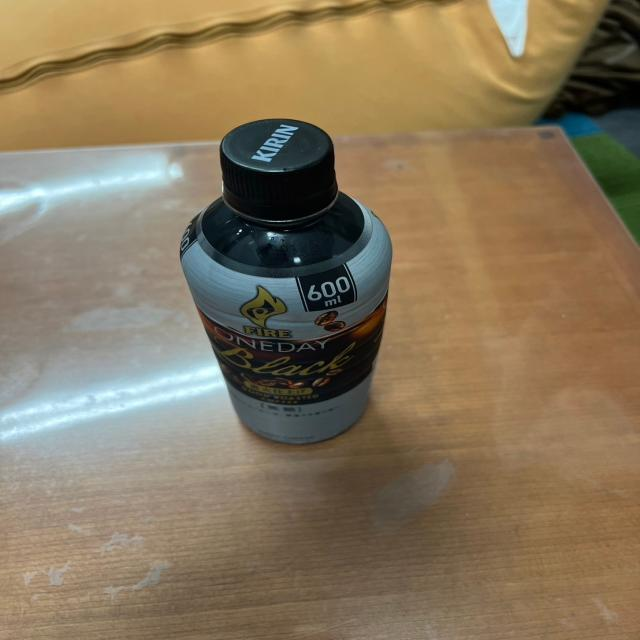coffee-black: (172, 112, 387, 446)
